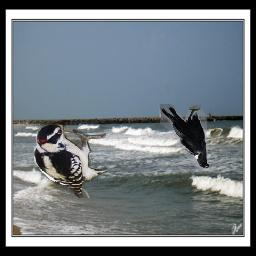Crow: (161, 105, 210, 172)
Woodpecker: (35, 120, 108, 198)
